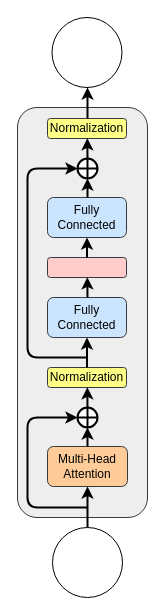
This 165x615 diagram has some shape labels left out. The box of each missing label's shape, as (x1, y1, x2, y2) in pixels:
Activation: (46, 256, 126, 278)
Input: (52, 526, 122, 598)
Output: (51, 16, 122, 88)
